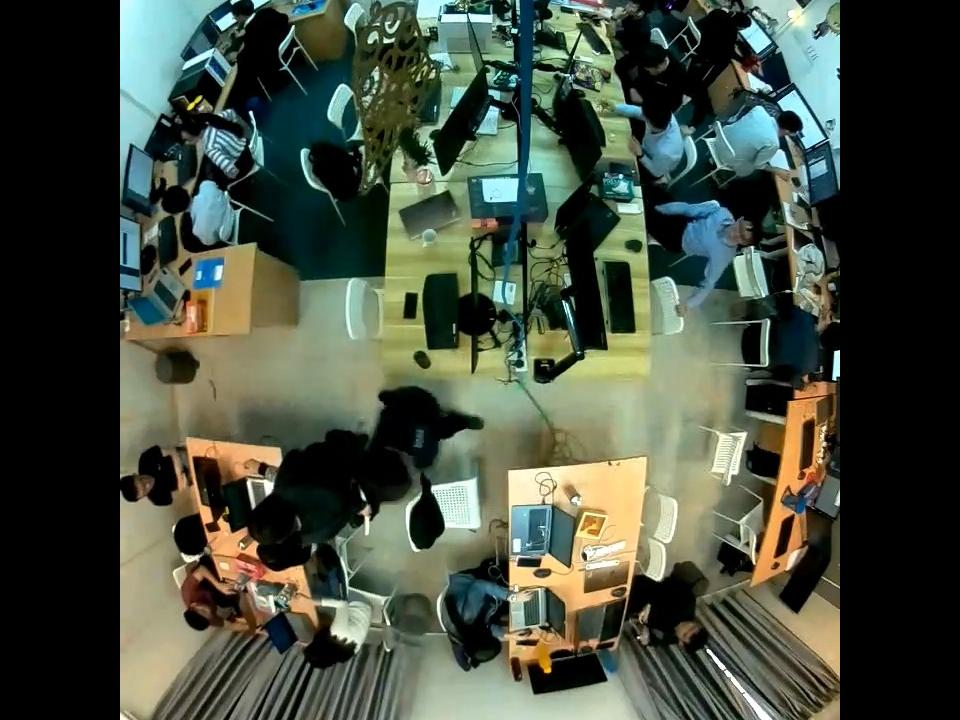name-tag: (410, 424, 430, 449)
